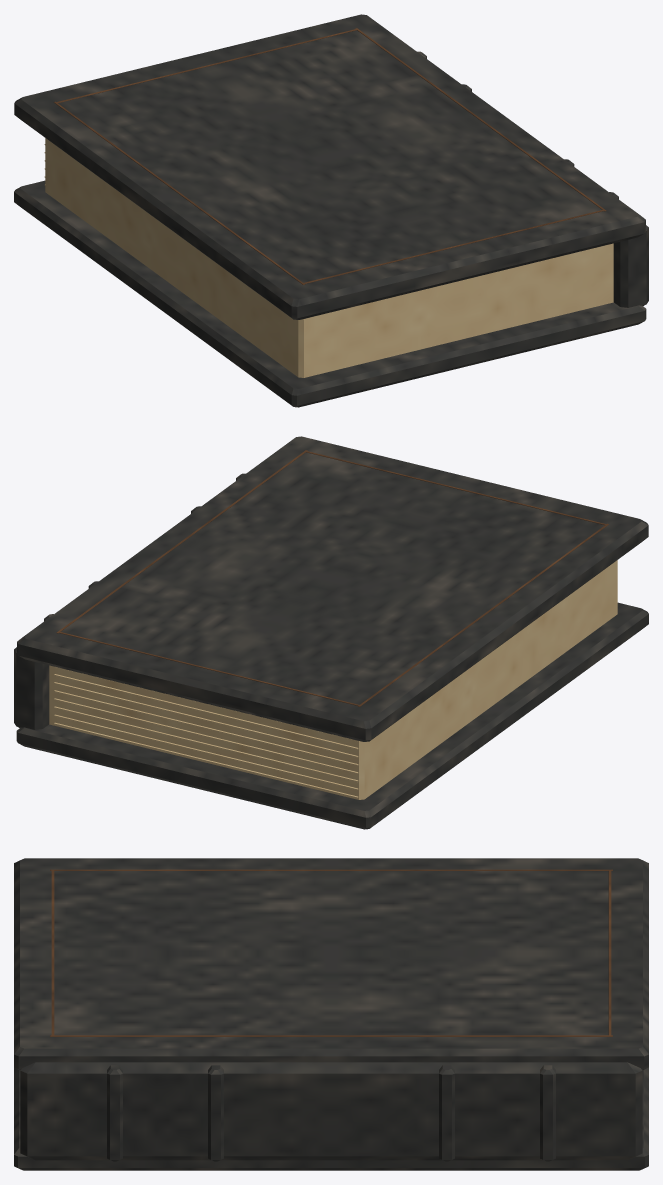
File: Book_Charcoal.obj
3 renders of one model, top to bottom at view 1: azimuth 30°, elevation 25°; view 2: azimuth 150°, elevation 25°; view 3: azimuth 270°, elevation 25°, orthographic. The views are drawn at different scales.
Visible parts, largest first — view 1: Book_Charcoal_Mesh; view 2: Book_Charcoal_Mesh; view 3: Book_Charcoal_Mesh.
Part boxes in pixels (bbox=[...]): Book_Charcoal_Mesh: bbox=[14, 14, 648, 407]; Book_Charcoal_Mesh: bbox=[14, 436, 648, 829]; Book_Charcoal_Mesh: bbox=[14, 858, 648, 1170].
Size of the model in its own units: 0.332 by 0.0935 by 0.44.
Materials: 4 (4 with a texture image).
